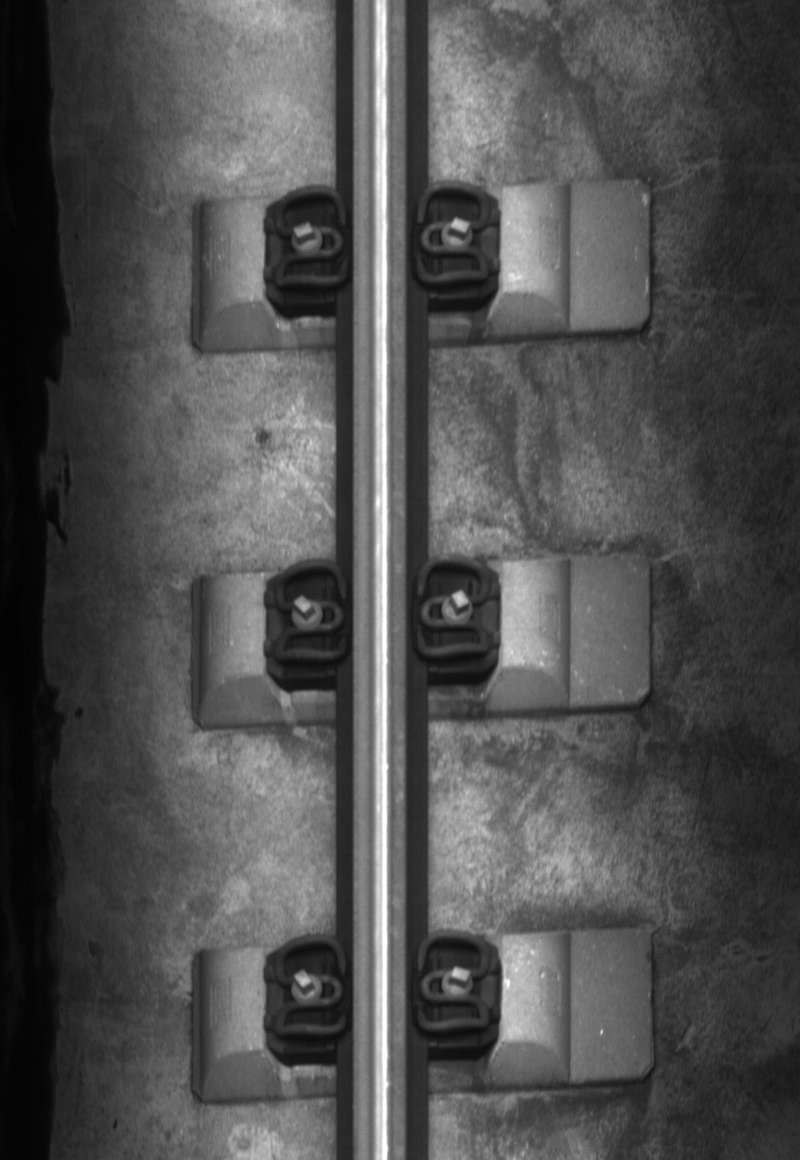l_faster: (267, 181, 353, 296), (268, 929, 352, 1044), (269, 557, 352, 669)
r_faster: (410, 925, 496, 1040), (410, 551, 495, 666), (411, 179, 493, 290)
